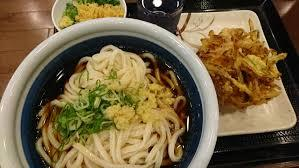bukkake: (7, 21, 214, 168)
kakiage: (202, 23, 285, 116)
